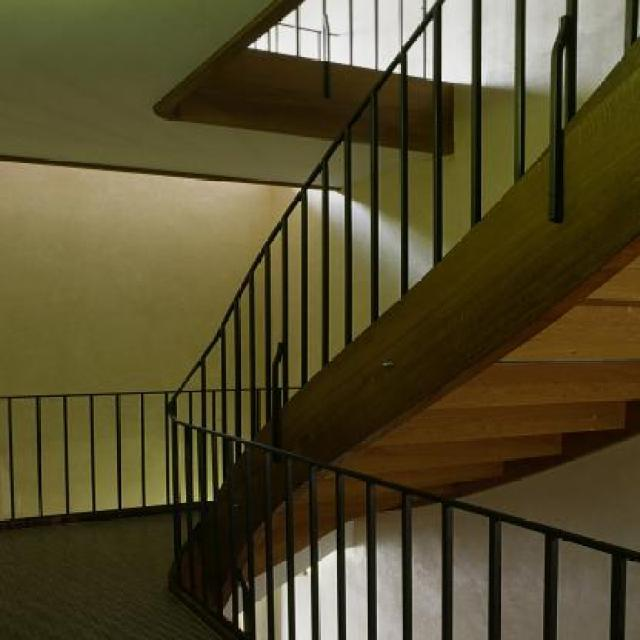stair: (116, 3, 638, 639)
